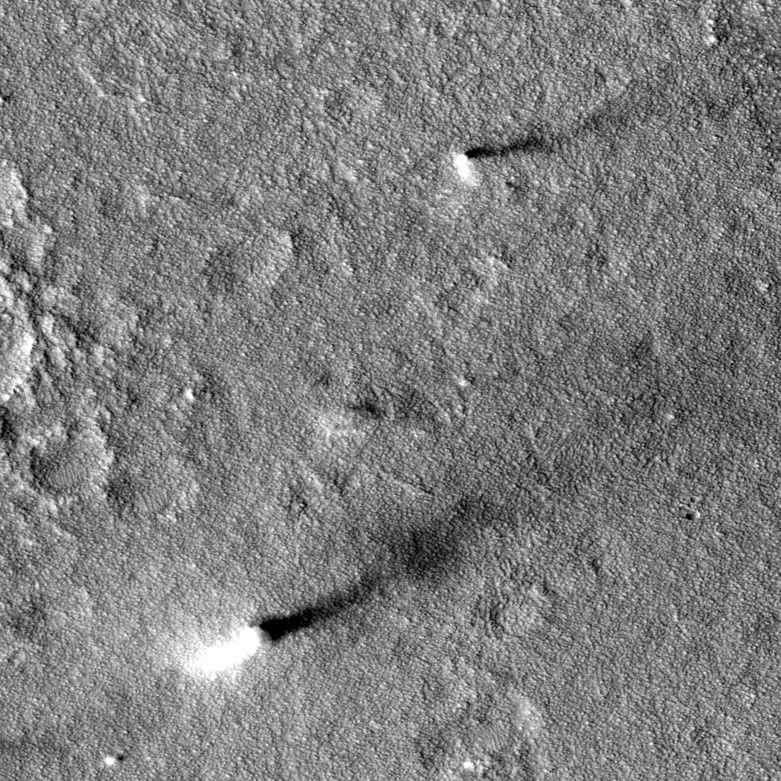dust_devil: (179, 490, 523, 682), (450, 122, 565, 190)
